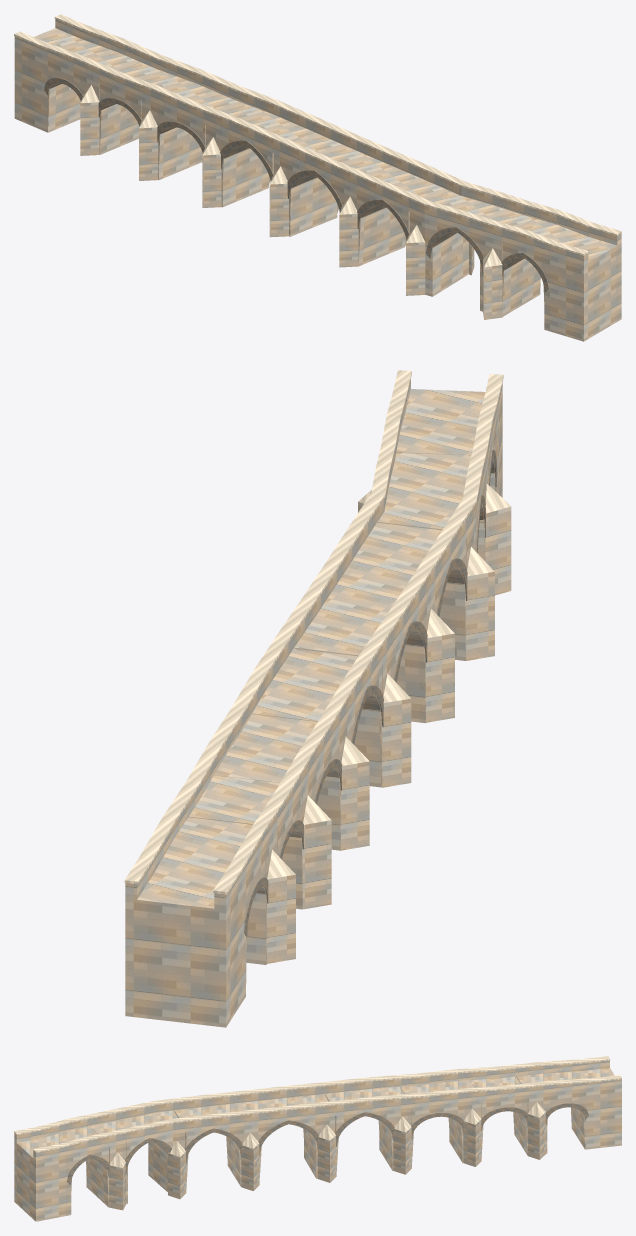
File: bidford.glb
3 renders of one model, top to bottom at view 1: azimuth 30°, elevation 25°; view 2: azimuth 150°, elevation 25°; view 3: azimuth 270°, elevation 25°, orthographic. The views are drawn at different scales.
Parts seen in each view (by area): view 1: Pier, CutwaterCap, Vault; view 2: Pier, CutwaterCap, Vault; view 3: Pier, CutwaterCap, Vault.
Boxes of the visible parts, x1=… form: Pier: x1=14, y1=19, x2=621, y2=341; CutwaterCap: x1=14, y1=14, x2=621, y2=267; Vault: x1=44, y1=78, x2=548, y2=292; Pier: x1=125, y1=379, x2=511, y2=1027; CutwaterCap: x1=124, y1=370, x2=510, y2=894; Vault: x1=244, y1=450, x2=497, y2=936; Pier: x1=14, y1=1060, x2=621, y2=1221; CutwaterCap: x1=14, y1=1056, x2=621, y2=1168; Vault: x1=67, y1=1103, x2=588, y2=1184.
Bounding box in the file's own units: 24.41 × 8.51 × 63.99.
3 materials, 3 textured.
